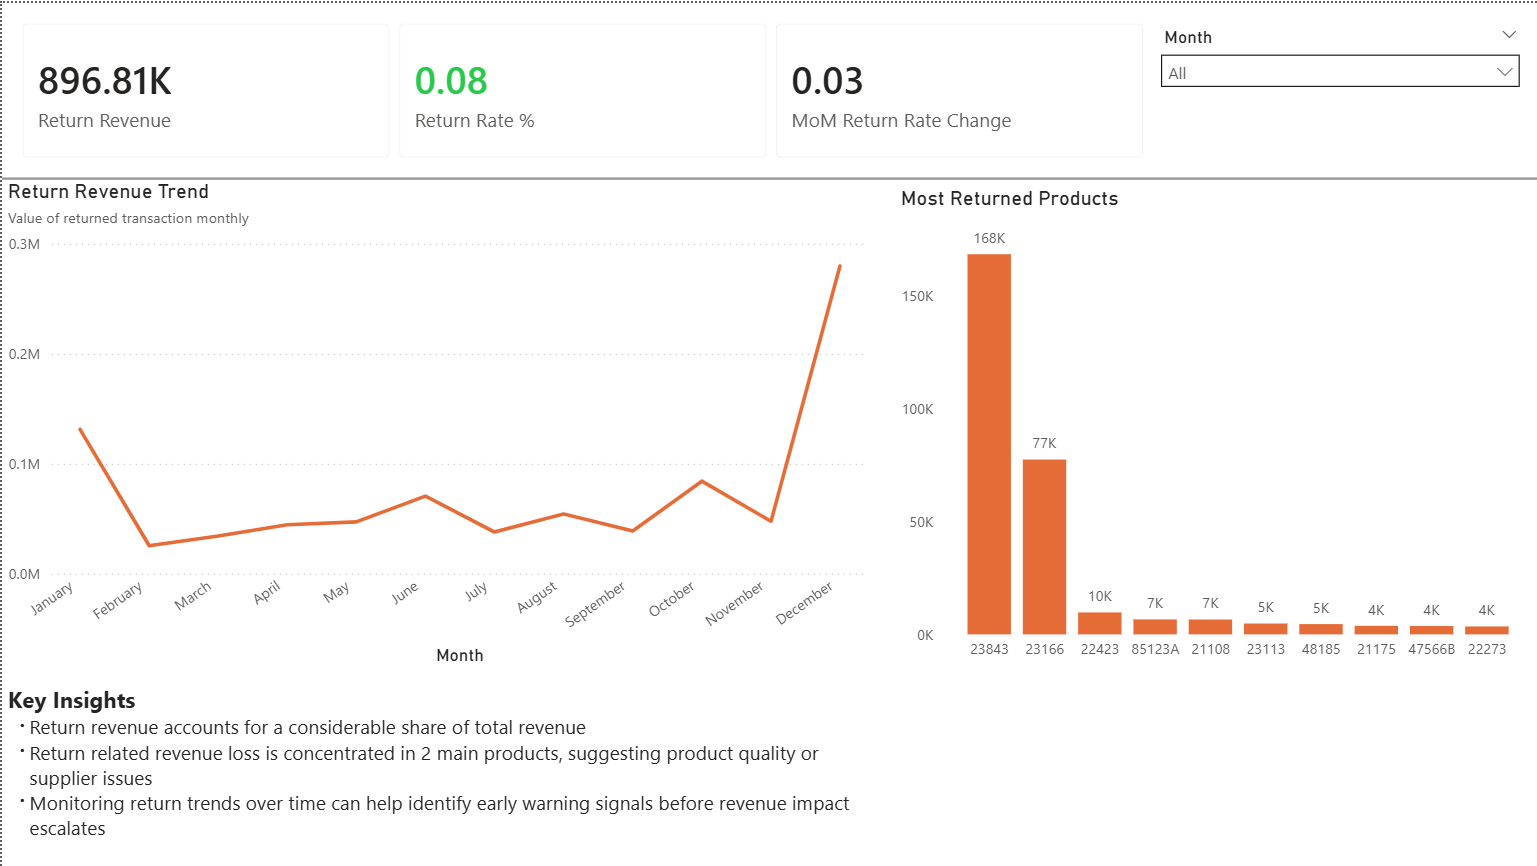

What the dashboard file says about the page in this screenshot:
{"tool":"powerbi","page":{"name":"Page 2","canvas":[1280,720],"ordinal":1},"visuals":[{"type":"cardVisual","fields":{"Data":["public vw_kpi_monthly.Return Revenue","public vw_kpi_monthly.Return Rate %","public vw_kpi_monthly.MoM Return Rate Change"]},"box":[0,0,968.2,146.4],"z":0},{"type":"lineChart","title":"Return Revenue Trend","fields":{"Category":["public vw_kpi_monthly.month.Variation.Date Hierarchy.Month"],"Y":["public vw_kpi_monthly.Return Revenue"]},"box":[0,146.4,726.4,410],"z":1000},{"type":"columnChart","title":"Most Returned Products","fields":{"Category":["public vw_sales_clean.stockcode"],"Y":["public vw_kpi_monthly.Returned Revenue"]},"box":[744.5,152.7,535.5,403.6],"z":2000},{"type":"slicer","fields":{"Values":["public vw_kpi_monthly.month.Variation.Date Hierarchy.Month"]},"box":[955.7,15,319.3,120.7],"z":3000},{"type":"shape","box":[0,140,1280,12.7],"z":4000},{"type":"textbox","box":[0,562.7,726.4,157.3],"z":5000}]}

Visuals, with their boxes in screenshot pixels (x1, y1, x2, y2), scaled from the page's 1280x720 canvas onto the 1537x866 screenshot:
cardVisual - public vw_kpi_monthly.Return Revenue x public vw_kpi_monthly.Return Rate %: left=0, top=0, right=1163, bottom=176
"Return Revenue Trend" lineChart: left=0, top=176, right=872, bottom=669
"Most Returned Products" columnChart: left=894, top=184, right=1536, bottom=669
slicer - public vw_kpi_monthly.month.Variation.Date Hierarchy.Month: left=1148, top=18, right=1531, bottom=163
shape: left=0, top=168, right=1536, bottom=184
textbox: left=0, top=677, right=872, bottom=865
